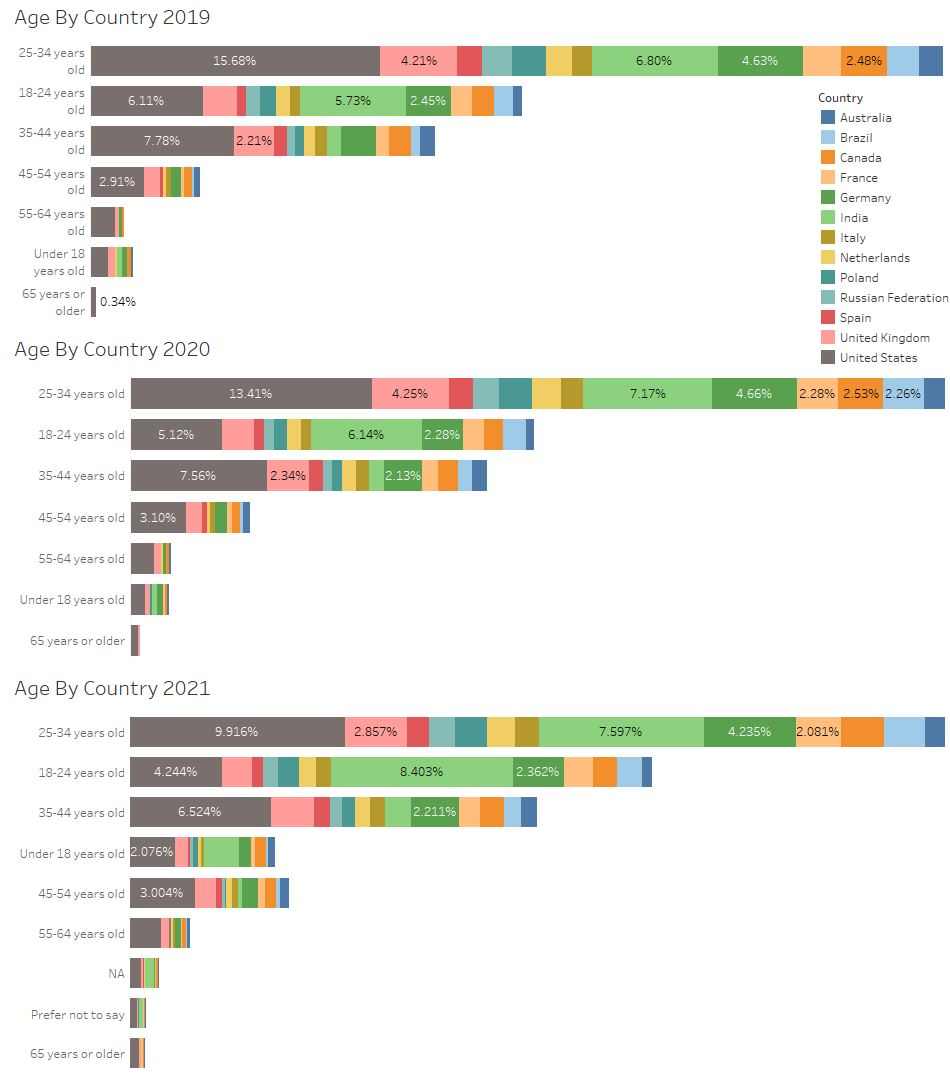

The dashboard page shown, as its layout file describes it:
{"tool":"tableau","page":{"name":"Are there more respondents under 18 years old participating from all countries or is this limited to a few countries ?","canvas":[1000,1100],"ordinal":0},"visuals":[{"type":"worksheet","title":"Age By Country 2019","mark":"Automatic","rows":["Calculation_1312236357078663168"],"cols":["Age"],"box":[8,8,984,332]},{"type":"legend","title":"Age By Country 2019","param":"[federated.0jubu2h1t9xomb1a4wry20pbjwtr].[none:Country:nk]","box":[820,103,140,382]},{"type":"worksheet","title":"Age By Country 2020","mark":"Automatic","rows":["Calculation_1312236357083004929"],"cols":["Age"],"box":[8,340,984,339]},{"type":"worksheet","title":"Age By Country 2021","mark":"Automatic","rows":["Age"],"cols":["Age"],"box":[8,679,984,413]}]}

Visuals, with their boxes in screenshot pixels (x1, y1, x2, y2), scaled from the page's 1000x1100 canvas onto the 950x1076 screenshot:
"Age By Country 2019" worksheet: <box>8,8,942,333</box>
"Age By Country 2019" legend: <box>779,101,912,474</box>
"Age By Country 2020" worksheet: <box>8,333,942,664</box>
"Age By Country 2021" worksheet: <box>8,664,942,1068</box>
